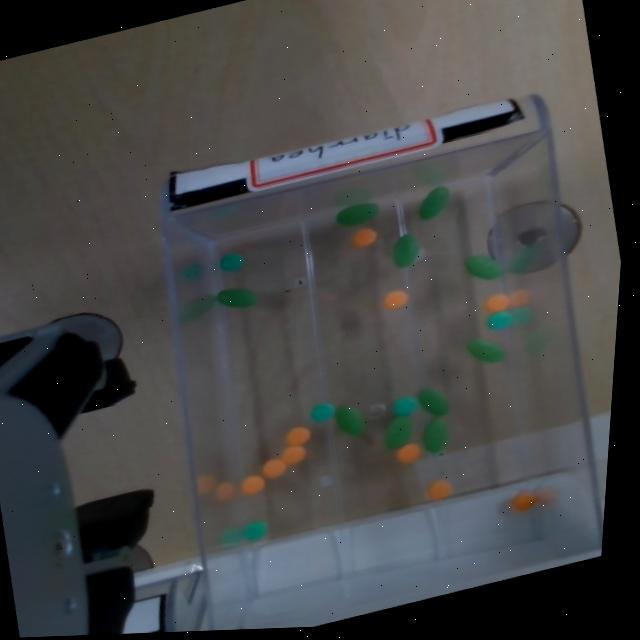famodine: (309, 400, 336, 424), (391, 394, 418, 417), (219, 250, 245, 273), (487, 310, 512, 333), (244, 519, 268, 542), (240, 520, 267, 540), (392, 395, 417, 415), (486, 310, 512, 329), (311, 402, 335, 421), (219, 253, 243, 270)
otillen_tab: (464, 247, 505, 285), (332, 198, 382, 228), (413, 185, 452, 221), (215, 281, 258, 313), (381, 414, 418, 450), (332, 401, 367, 439), (417, 383, 451, 420), (419, 416, 451, 455), (390, 231, 422, 269), (418, 186, 449, 219), (335, 201, 379, 224), (392, 233, 420, 267), (421, 418, 449, 452), (465, 254, 502, 279), (385, 416, 413, 449), (467, 338, 505, 362), (334, 406, 365, 435), (417, 388, 449, 416), (216, 287, 256, 307)
samsung_octylonium_tab: (283, 423, 311, 449), (509, 488, 536, 514), (425, 477, 452, 502), (279, 442, 306, 467), (382, 287, 409, 310), (396, 442, 422, 465), (260, 456, 286, 479), (239, 473, 265, 496), (351, 226, 377, 248), (394, 442, 422, 462), (510, 491, 538, 511), (485, 291, 510, 313), (284, 425, 310, 446), (260, 457, 286, 478), (426, 479, 452, 500), (238, 474, 265, 494), (279, 444, 305, 464), (351, 227, 376, 247), (484, 293, 509, 312), (383, 289, 407, 308)
